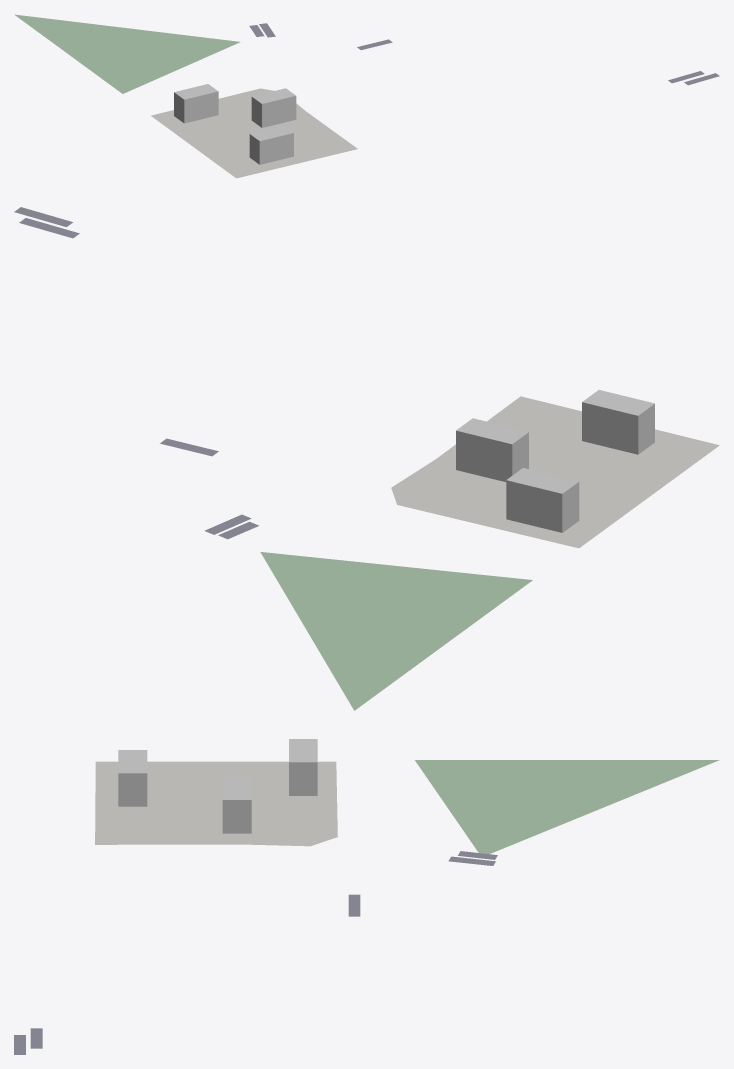
File: 127_74_mid.glb
3 views of the same model, one above another, from view 1: azimuth 30°, elevation 25°; view 2: azimuth 150°, elevation 25°; view 3: azimuth 270°, elevation 25° (orthographic). The views are drawn at different scales.
Size of the model in its own units: 435 by 22.28 by 418.
